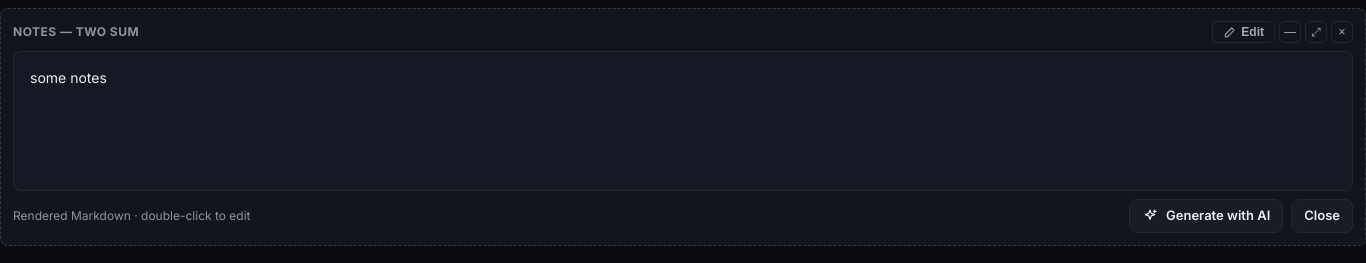
Test case: minimizing hides the body but keeps the header, and restore brings it back
The image size is (1366, 263).
Expected: the button "Close" is shown, [1291, 199, 1353, 233]
Click the button titled "Minimize".
click(1290, 32)  # box [1279, 21, 1301, 43]
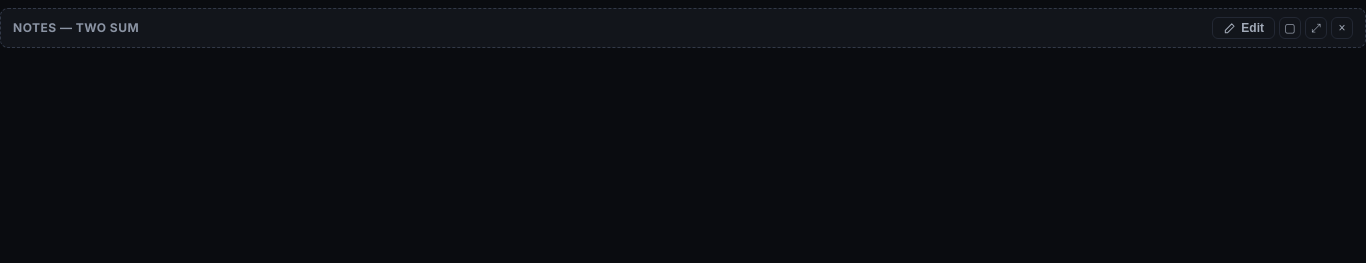
Expected: the text "Notes — Two Sum" is shown, [13, 18, 139, 38]
Now the button "Close" is gone
Click the button titled "Restore".
click(1290, 28)  # box [1279, 17, 1301, 39]
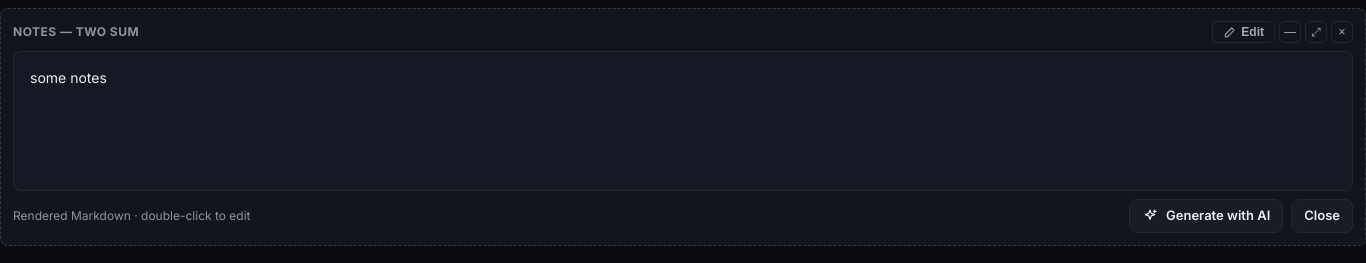
Now the button "Close" is shown, box [1291, 199, 1353, 233]
